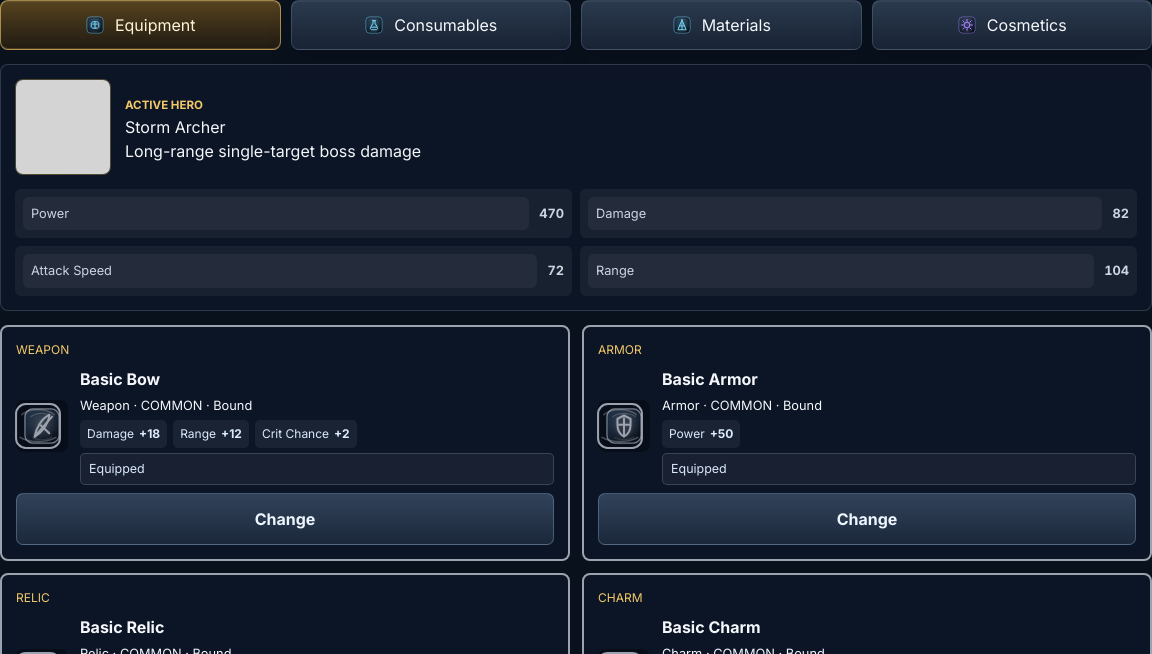
Test case: InventoryPanel equipment swaps › filters replacements by exact slot, confirms swap, returns old item, and refreshes stat totals
Expected: the text "Basic Bow" is shown, [80,368,160,388]
Step 1. Click the button "Change" below "18" → (285, 519), box [16,493,554,545]
(page scrolled)
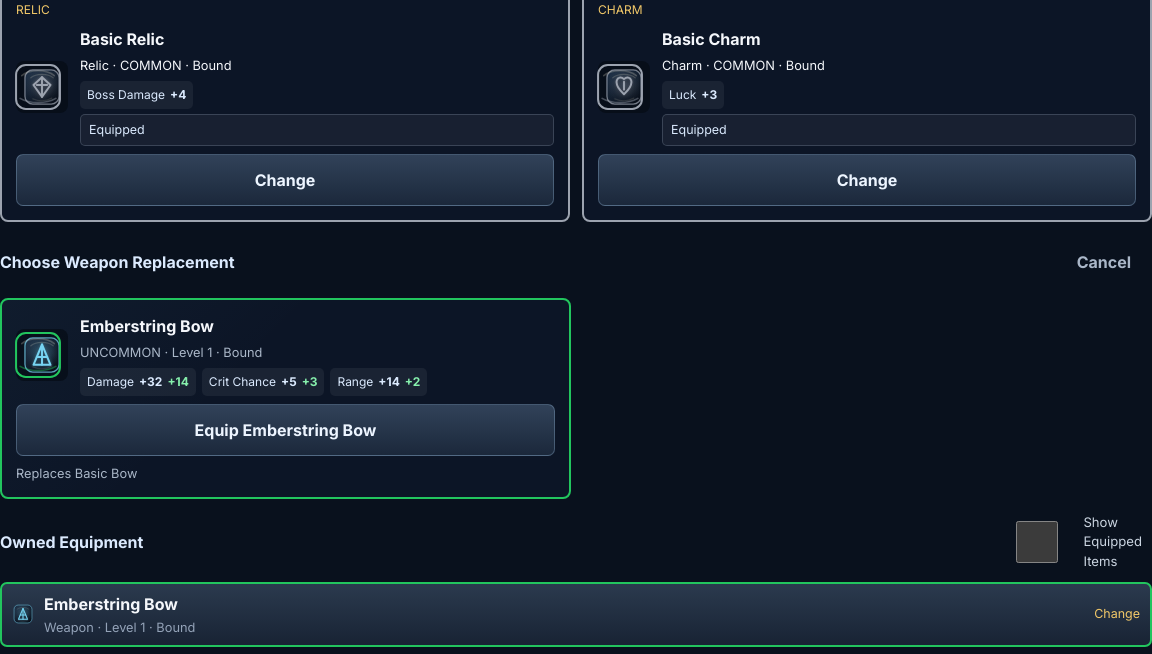
Expected: the text "Emberstring Bow" below "Choose" is shown, [80,316,214,336]
Expected: the text with class "stat-positive" next to "32" reads "+14", [167,374,189,388]
Step 2. Click the button "Equip Emberstring Bow" → (286, 430), box [16,404,555,456]
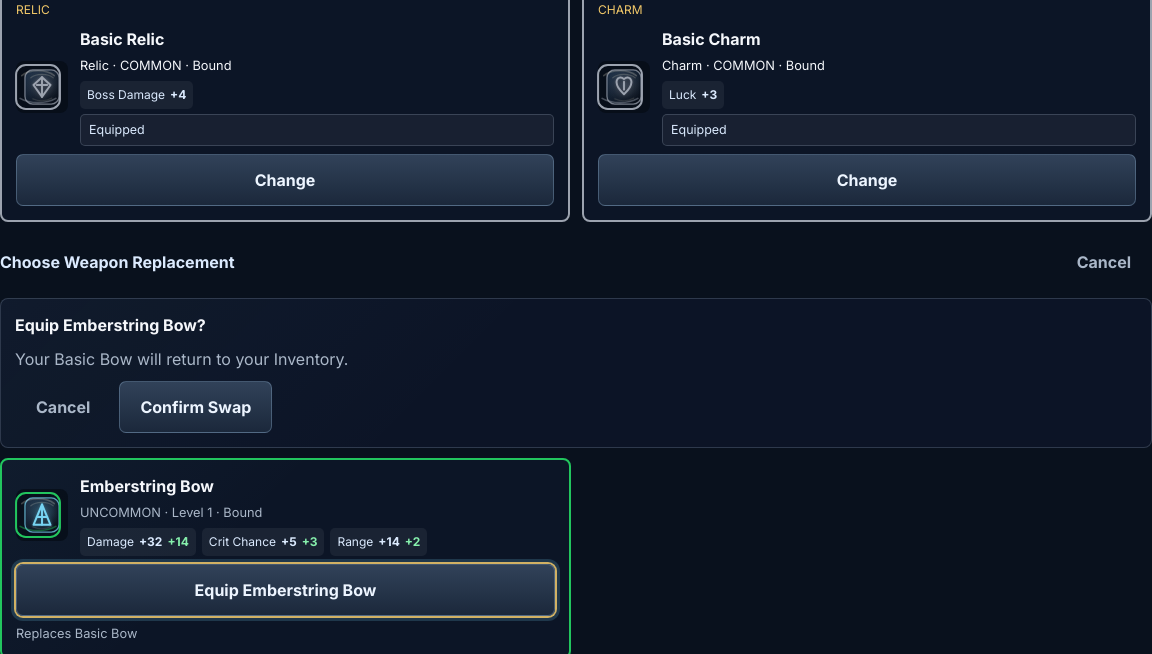
Expected: the text "Equip Emberstring Bow?" is shown, [15,315,206,335]
Expected: the text "Your Basic Bow will return to your Inventory." is shown, [15,349,348,369]
Step 3. Click the button "Confirm Swap" → (196, 407), box [119,381,272,433]
(page scrolled)
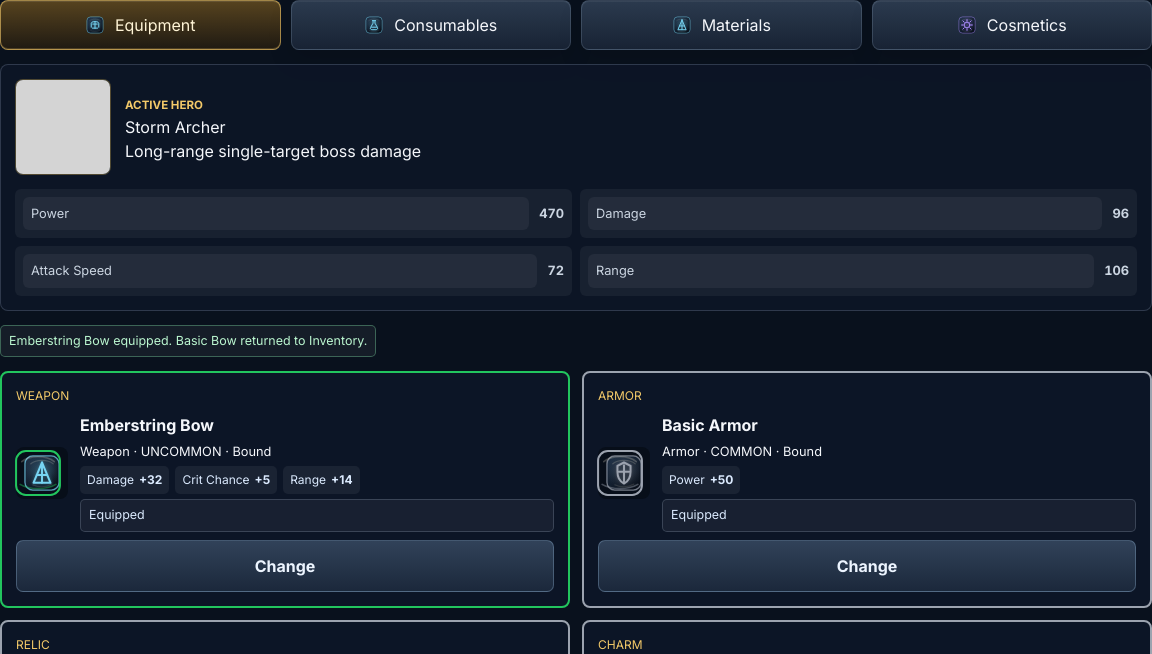
Expected: the text "Emberstring Bow equipped. Basic Bow returned to Inventory." is shown, [0,324,376,357]
